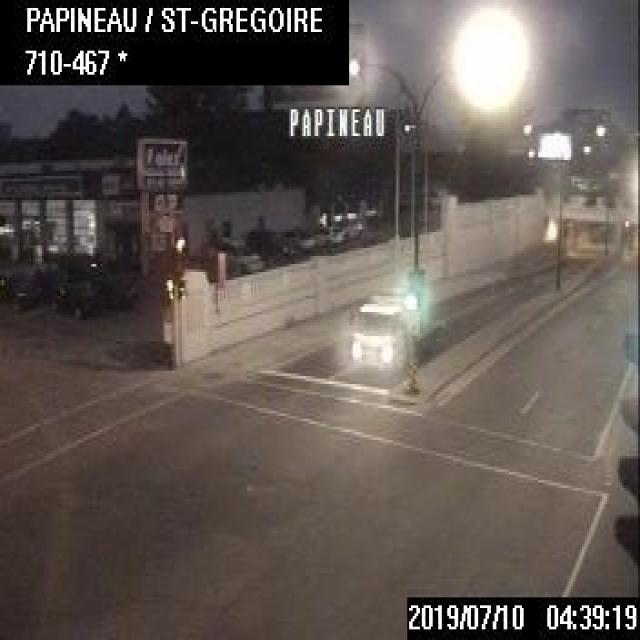vehicle: (345, 284, 450, 374), (202, 230, 264, 275), (50, 274, 106, 320)
